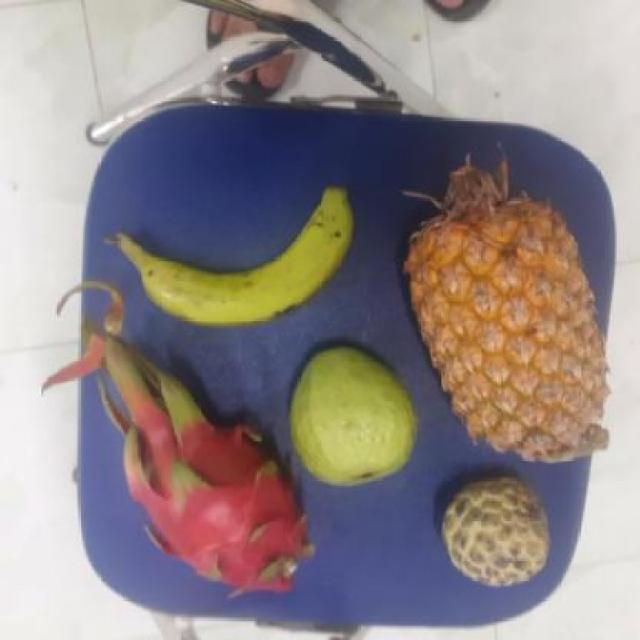banana: (114, 195, 348, 327)
dragon fruit: (129, 412, 306, 595)
guava: (281, 346, 418, 486)
pineapple: (405, 195, 604, 463)
sugar apple: (438, 478, 550, 585)
